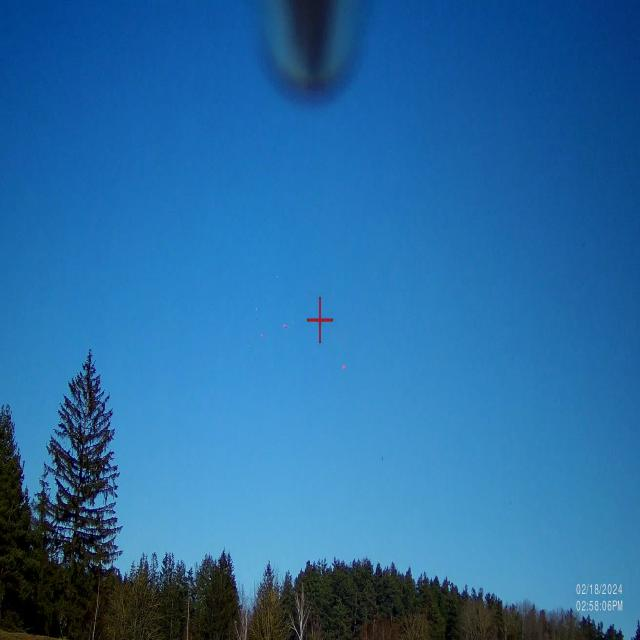broken: (243, 299, 357, 401)
